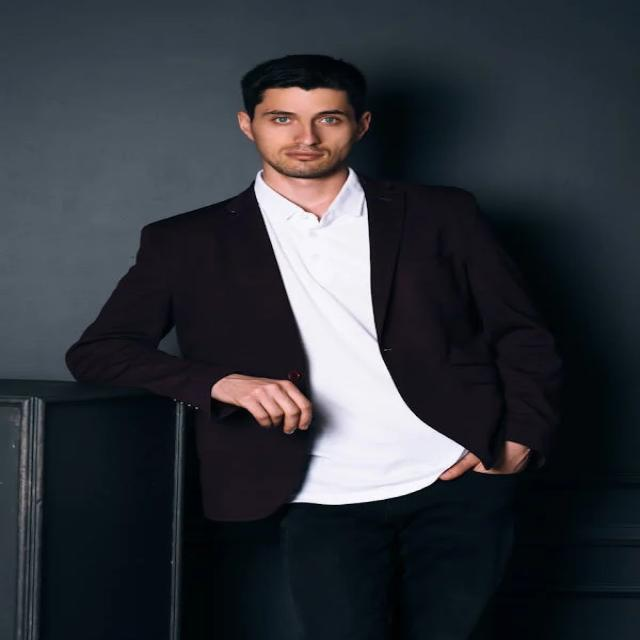Real human 2: (43, 46, 587, 640)
